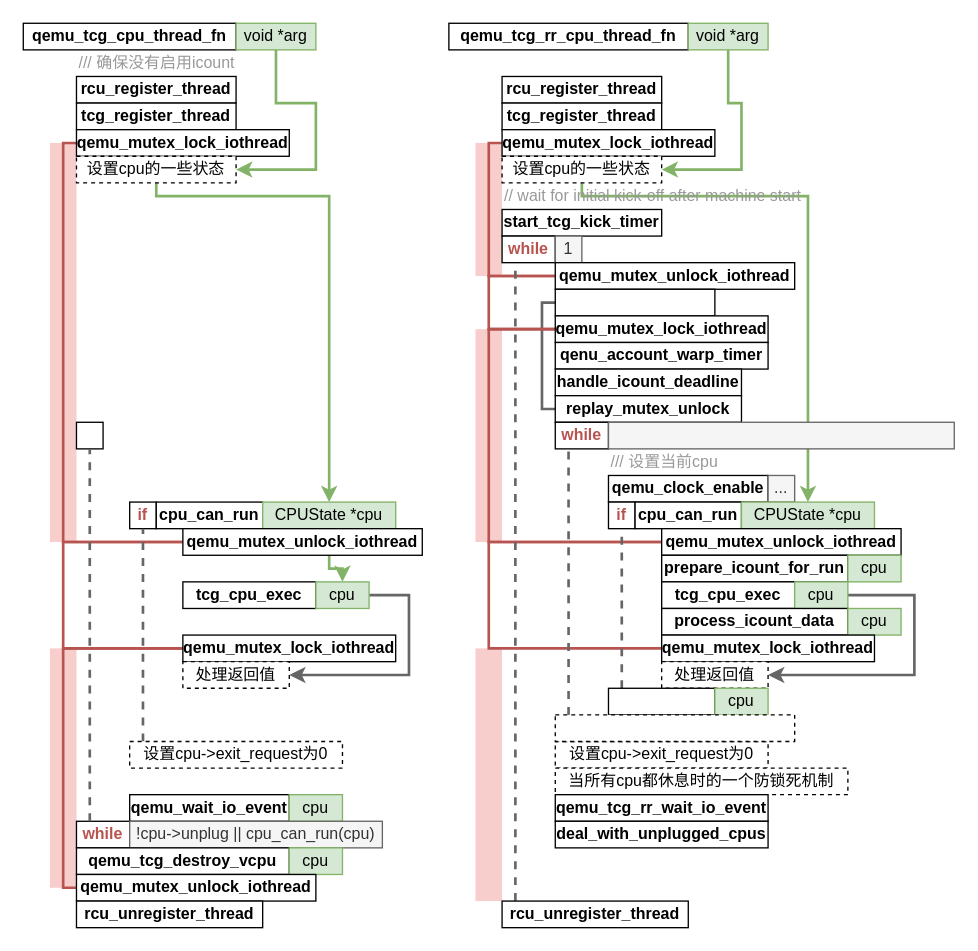
The diagram is 978 pixels wide and 951 high, and some of its shapes have lost their labels. The box of each missing label's shape, as (x1, y1, x2, y2) in pixels:
cpu && !...queued_work_first && !...exit_request: (607, 421, 954, 449)
CPU_NEXT: (607, 687, 715, 715)
do: (75, 421, 103, 449)
replay_mutex_lock: (554, 288, 715, 316)
设置tcg_current_rr_cpu为NULL: (554, 714, 795, 741)
